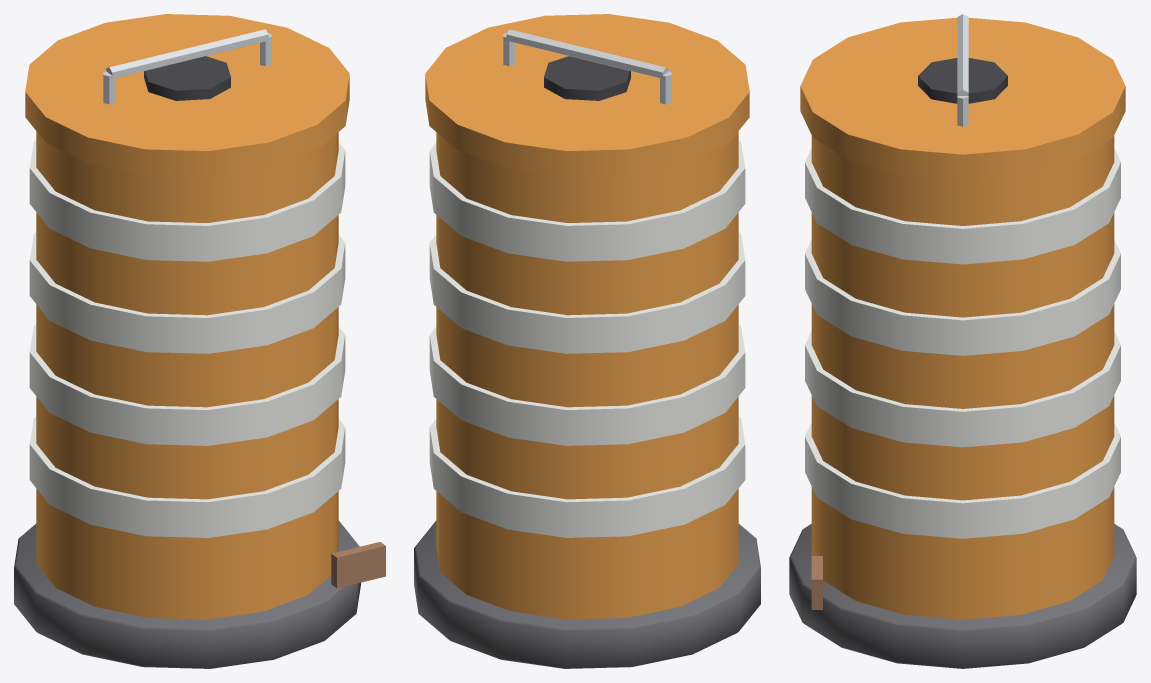
File: Barrel_Traffic.fbx
3 views of the same model, side by side, from view 1: azimuth 30°, elevation 25°; view 2: azimuth 150°, elevation 25°; view 3: azimuth 270°, elevation 25° (orthographic).
Visible parts, largest first — view 1: LOD0; view 2: LOD0; view 3: LOD0.
Part boxes in pixels (bbox=[...]): LOD0: bbox=[14, 14, 385, 668]; LOD0: bbox=[414, 14, 760, 668]; LOD0: bbox=[789, 14, 1136, 668].
Size of what is drawn, in the model's own units: 62 by 107 by 62.
